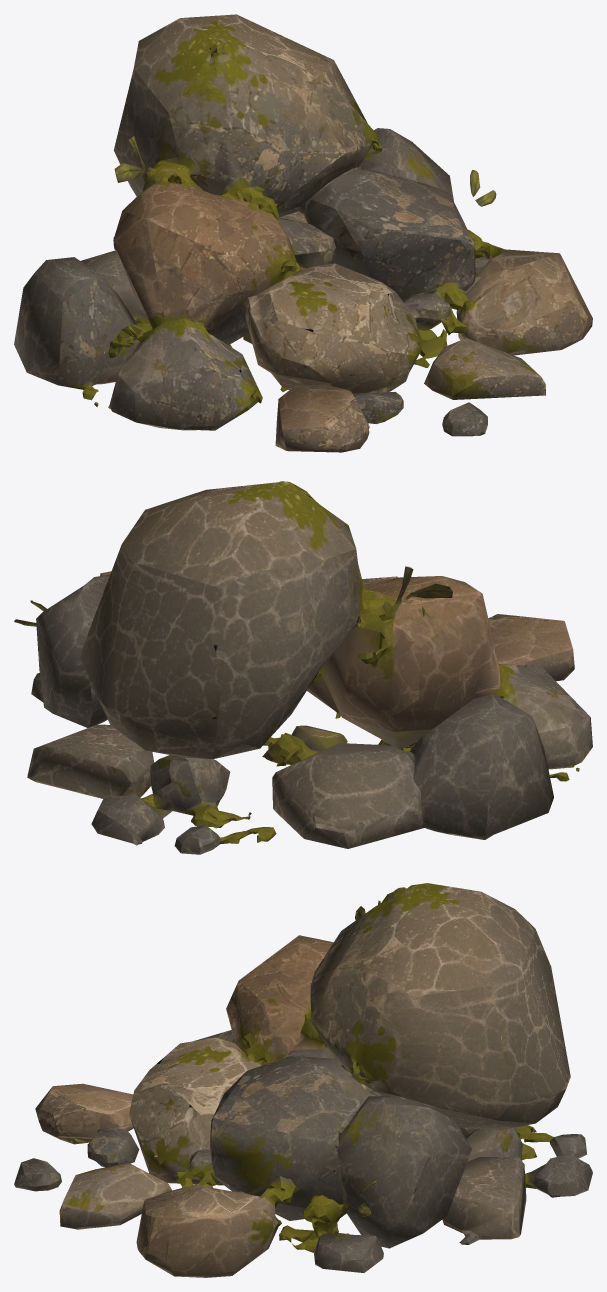
Rendered from stone-pile.glb.
The picture shows the model from 3 angles, top to bottom: view 1: azimuth 30°, elevation 25°; view 2: azimuth 150°, elevation 25°; view 3: azimuth 270°, elevation 25°; orthographic projection. The views are drawn at different scales.
Parts seen in each view (by area): view 1: Mesh0; view 2: Mesh0; view 3: Mesh0.
Part boxes in pixels (x1,y1,x2,y2): Mesh0: [14, 14, 592, 452]; Mesh0: [14, 481, 592, 854]; Mesh0: [14, 883, 592, 1277].
Size of the model in its own units: 0.9478 by 0.5108 by 1.
1 material, 1 textured.
